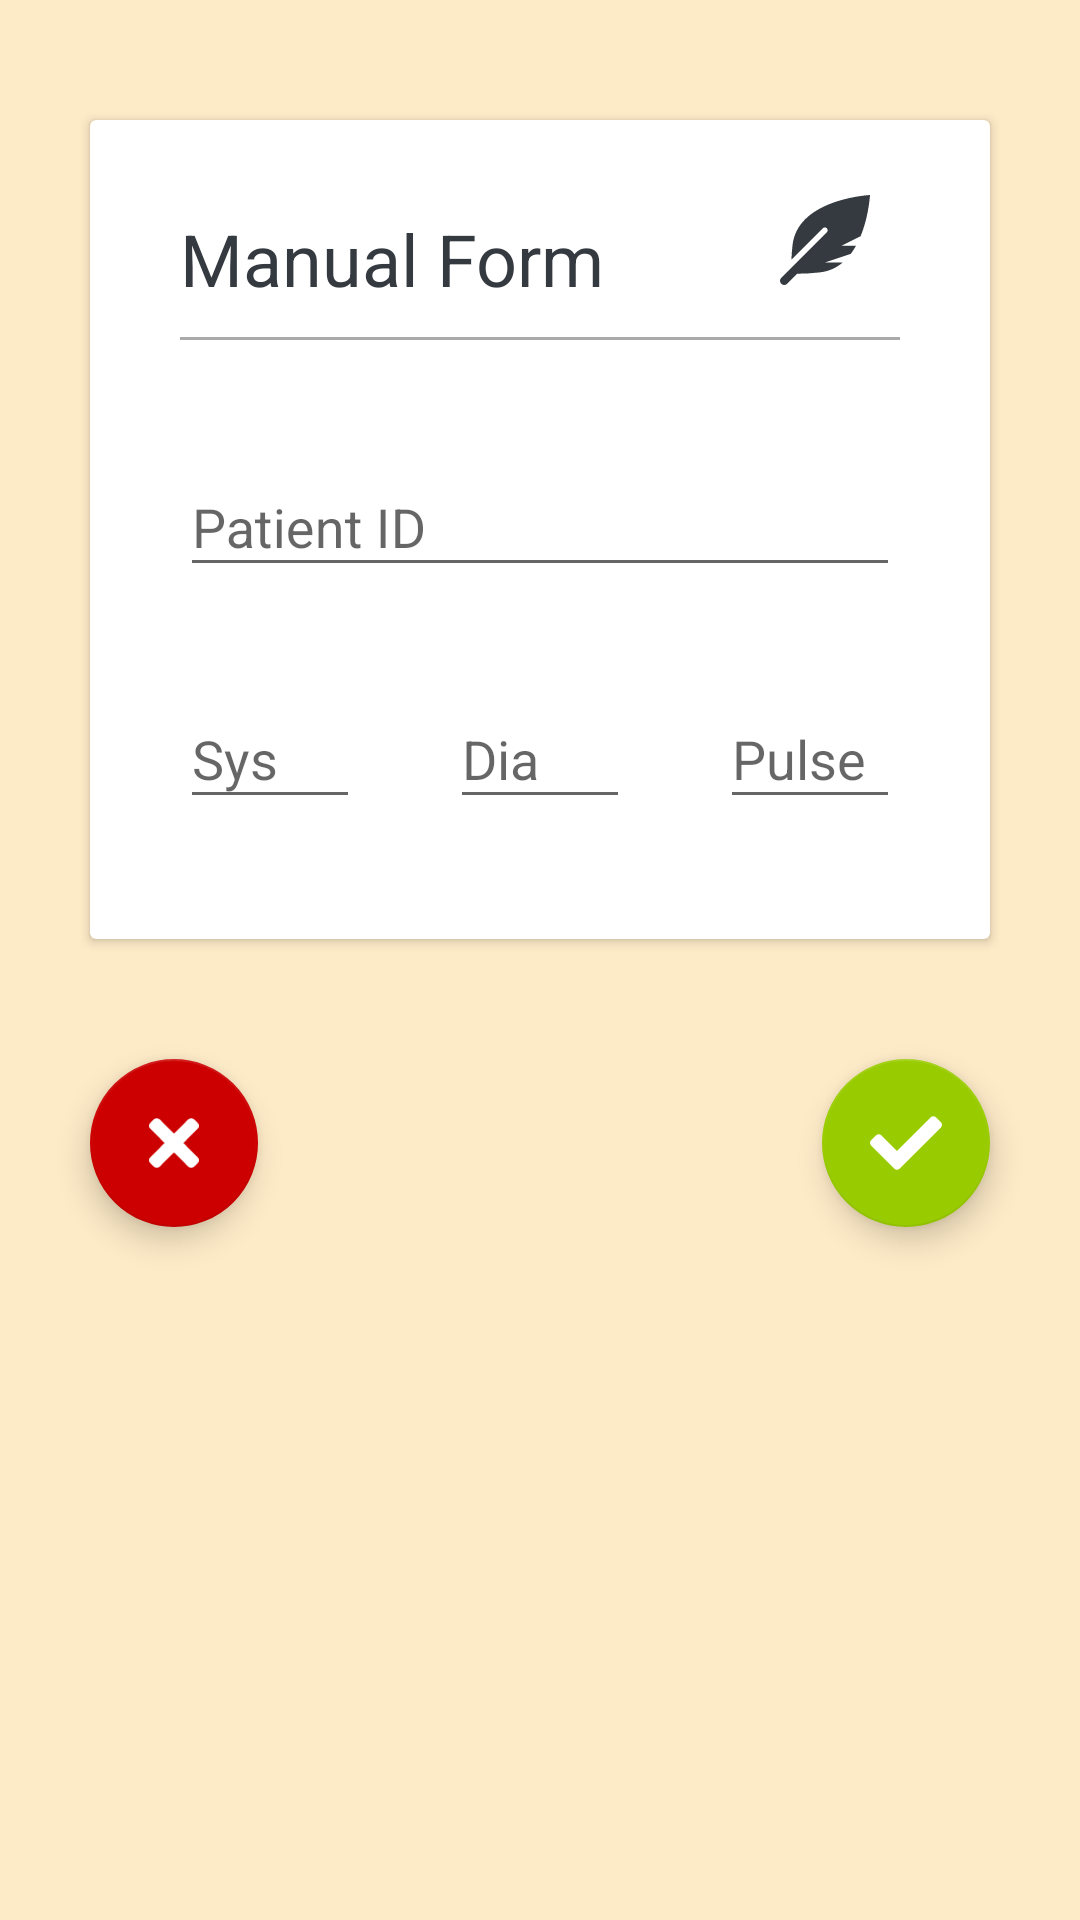

Locate icon controls on the screen. Image size 1080x1920, boxes as (x1=x1, y1=y1, x2=x2, y2=y2).
Cancel: (x1=90, y1=1059, x2=258, y2=1227)
Confirm: (x1=822, y1=1059, x2=990, y2=1227)
Manual Form: (x1=780, y1=195, x2=870, y2=285)
